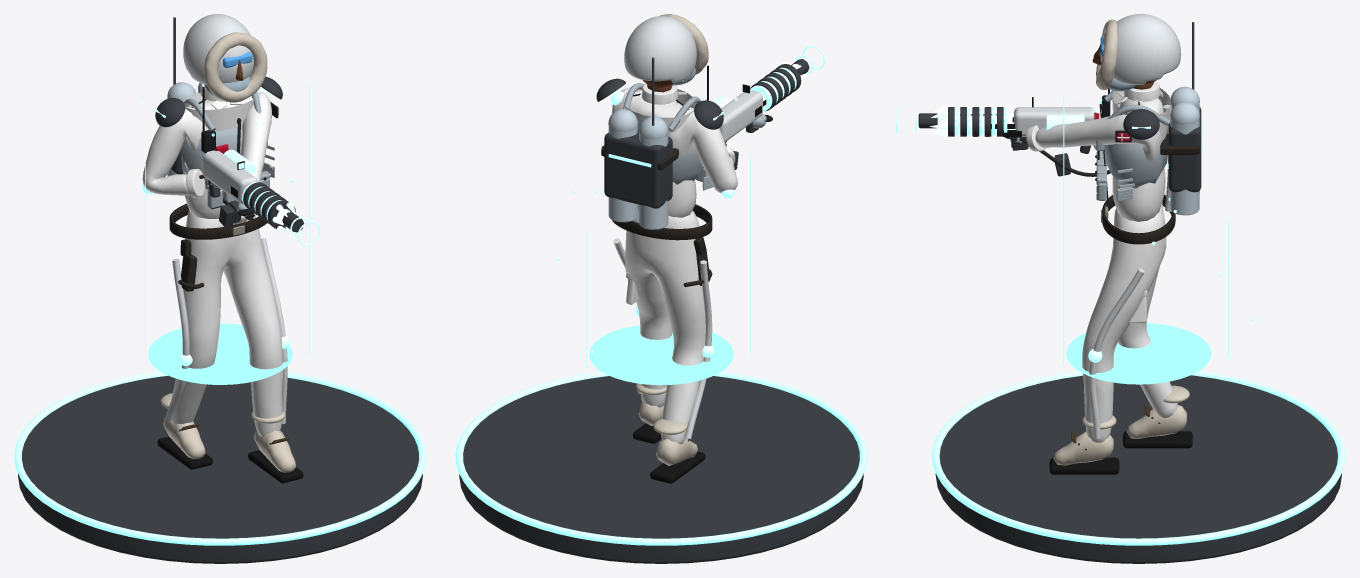
The model's file is frost_arktis.glb.
The picture shows the model from 3 angles, left to right: view 1: azimuth 30°, elevation 25°; view 2: azimuth 150°, elevation 25°; view 3: azimuth 270°, elevation 25°; orthographic projection.
Visible parts, largest first — view 1: fod_net, menneske_net, hoved_net, op4.001_net, op1.001_net, vaaben_net, op4.002_net, op3.001_net; view 2: fod_net, menneske_net, op4.001_net, op3.001_net, hoved_net, op1.001_net, vaaben_net, op4.002_net; view 3: fod_net, menneske_net, op4.001_net, hoved_net, op1.001_net, vaaben_net, op3.001_net, op4.002_net, op1_net.
Part boxes in pixels (bbox=[...]): fod_net: bbox=[14, 371, 426, 563]; menneske_net: bbox=[142, 82, 303, 483]; hoved_net: bbox=[183, 14, 267, 102]; op4.001_net: bbox=[141, 84, 310, 384]; op1.001_net: bbox=[169, 87, 274, 291]; vaaben_net: bbox=[202, 149, 298, 229]; op4.002_net: bbox=[142, 88, 289, 424]; op3.001_net: bbox=[155, 17, 282, 174]; fod_net: bbox=[455, 371, 867, 563]; menneske_net: bbox=[608, 84, 772, 483]; op4.001_net: bbox=[556, 98, 751, 385]; op3.001_net: bbox=[596, 57, 723, 208]; hoved_net: bbox=[624, 14, 708, 88]; op1.001_net: bbox=[601, 65, 735, 287]; vaaben_net: bbox=[714, 64, 807, 141]; op4.002_net: bbox=[611, 91, 734, 438]; fod_net: bbox=[932, 371, 1345, 563]; menneske_net: bbox=[1005, 81, 1199, 474]; op4.001_net: bbox=[1063, 94, 1254, 384]; hoved_net: bbox=[1092, 14, 1181, 91]; op1.001_net: bbox=[1093, 88, 1199, 244]; vaaben_net: bbox=[929, 107, 1095, 153]; op3.001_net: bbox=[1123, 22, 1202, 192]; op4.002_net: bbox=[1088, 104, 1171, 438]; op1_net: bbox=[930, 105, 1110, 176].
Size of the model in its own units: 1.94 by 2.39 by 2.1.
